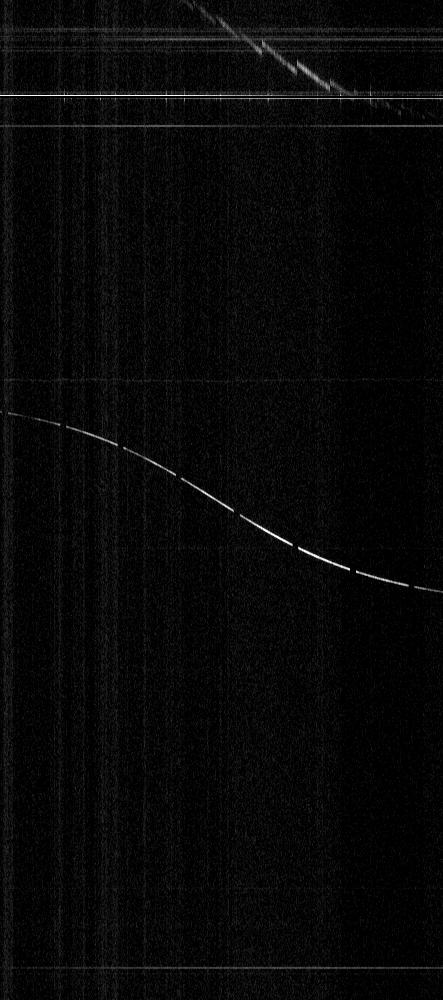signal: (0, 0, 442, 999)
